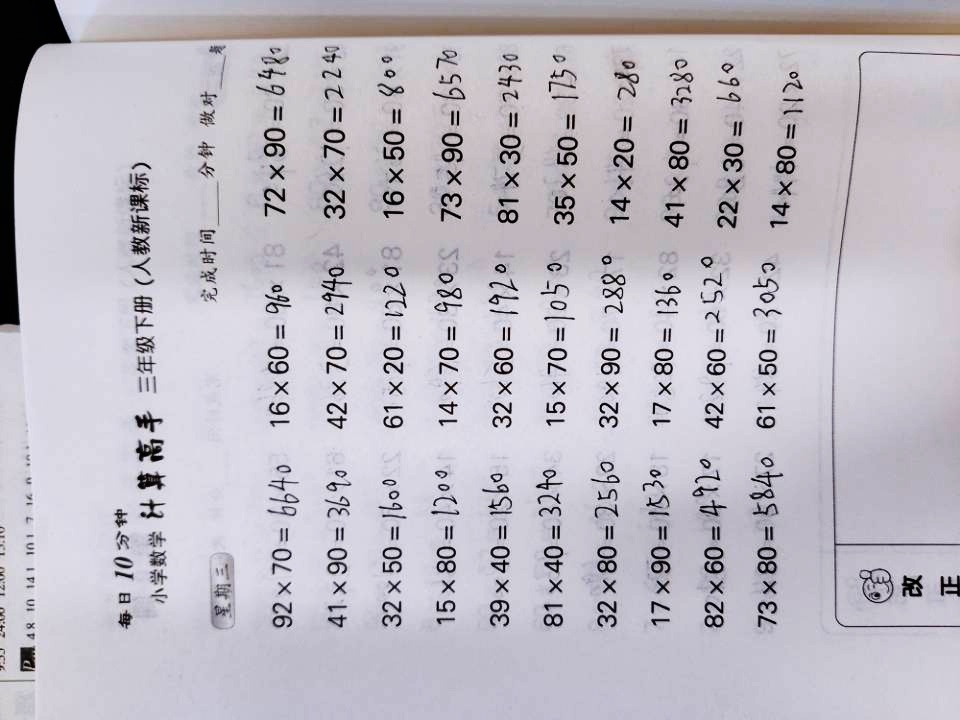equation: (418, 256, 476, 442), (250, 33, 303, 233), (309, 29, 363, 225), (737, 448, 792, 637), (481, 30, 532, 233), (305, 457, 359, 645), (368, 247, 421, 435), (531, 242, 582, 435), (425, 30, 473, 234), (582, 448, 633, 633), (539, 36, 586, 236), (254, 268, 311, 431), (369, 36, 416, 233), (767, 51, 815, 238), (741, 253, 789, 435), (635, 461, 684, 637), (481, 250, 527, 437), (524, 464, 574, 635), (644, 243, 686, 445), (687, 454, 731, 646), (257, 455, 301, 644), (586, 251, 631, 434), (601, 54, 647, 233), (693, 242, 735, 438), (315, 251, 359, 438), (421, 461, 467, 635), (707, 49, 747, 235), (655, 50, 695, 235), (369, 462, 409, 638), (480, 467, 520, 638)
